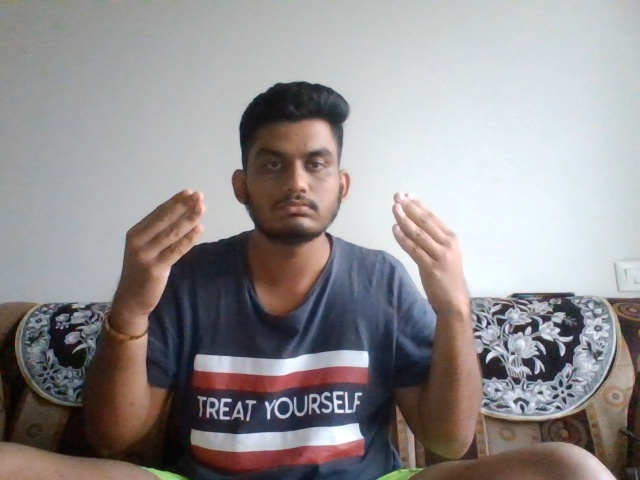Thank You: (105, 186, 488, 325)
